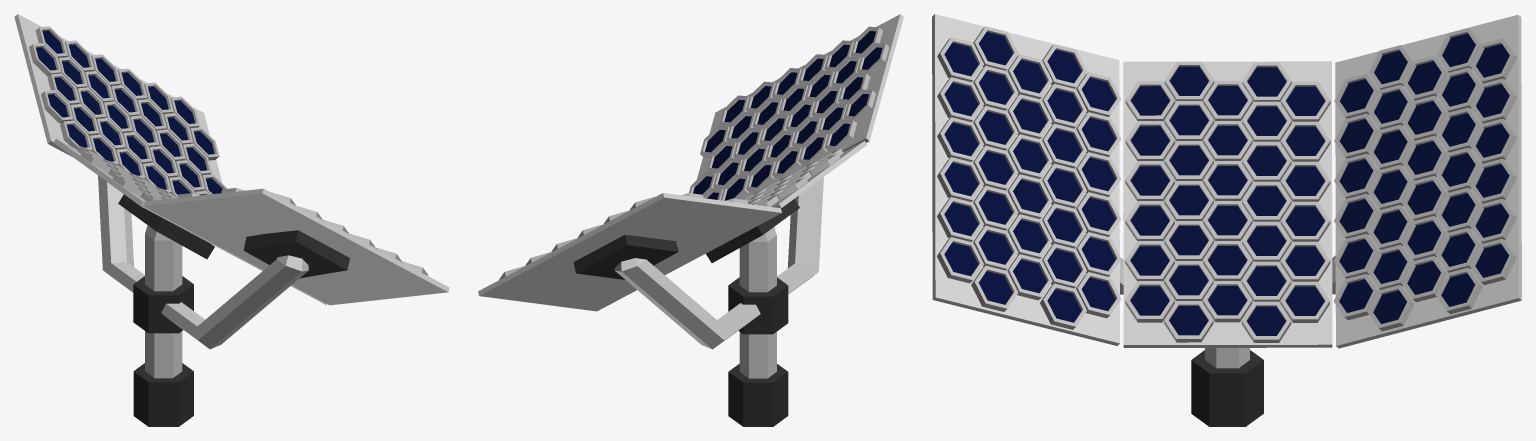
File: Solar Panel.fbx
3 renders of one model, left to right at view 1: azimuth 30°, elevation 25°; view 2: azimuth 150°, elevation 25°; view 3: azimuth 270°, elevation 25°, orthographic. The views are drawn at different scales.
Parts seen in each view (by area): view 1: solarpanel:Solar_Panel_Single; view 2: solarpanel:Solar_Panel_Single; view 3: solarpanel:Solar_Panel_Single.
Part boxes in pixels (x1,y1,x2,y2): solarpanel:Solar_Panel_Single: [14, 14, 449, 426]; solarpanel:Solar_Panel_Single: [478, 14, 903, 426]; solarpanel:Solar_Panel_Single: [932, 14, 1521, 426].
Bounding box in the file's own units: 2.5 × 3.28 × 4.53.
